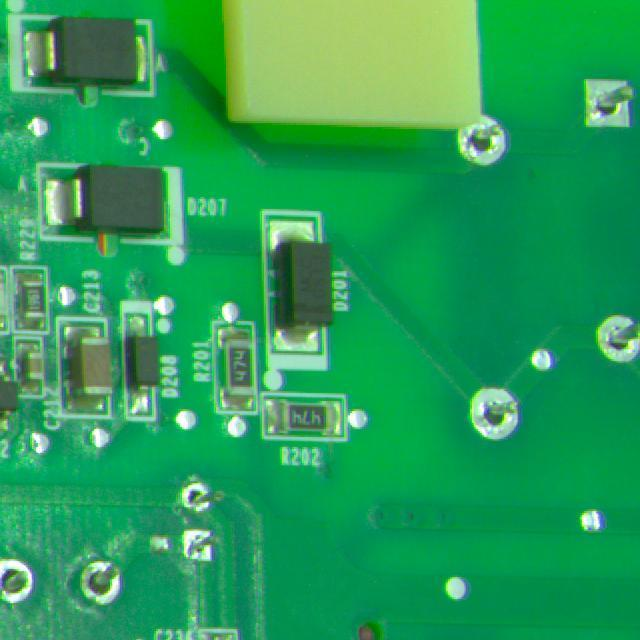oppostie_direction: (458, 115, 509, 166), (471, 387, 519, 439), (585, 79, 634, 128), (596, 315, 640, 362), (81, 560, 121, 605), (0, 559, 33, 603), (181, 481, 211, 512), (184, 530, 213, 561)
